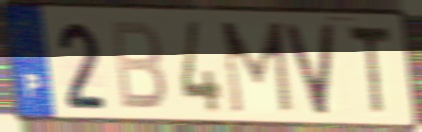2: (53, 15, 114, 114)
4: (178, 17, 227, 117)
B: (108, 18, 169, 113)
M: (219, 19, 296, 118)
T: (345, 21, 394, 120)
V: (282, 21, 338, 118)
